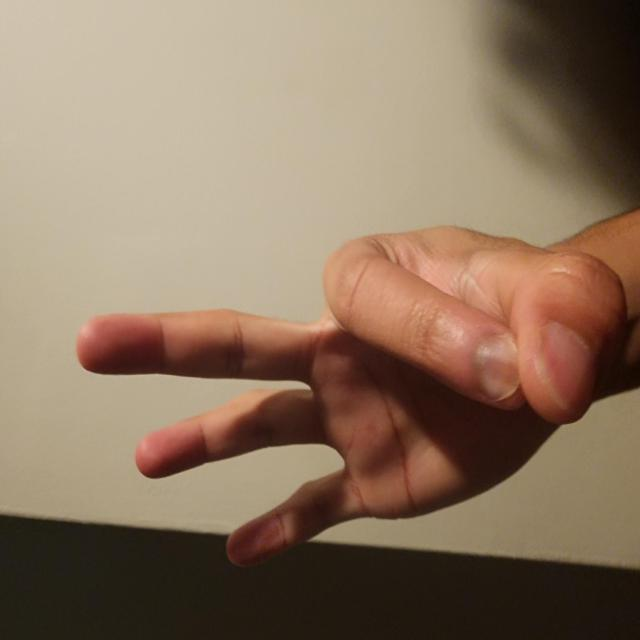F: (49, 95, 328, 640)
